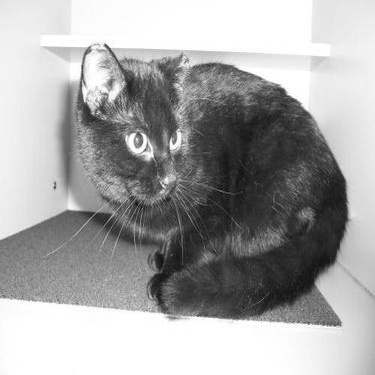cat: (30, 35, 349, 314)
